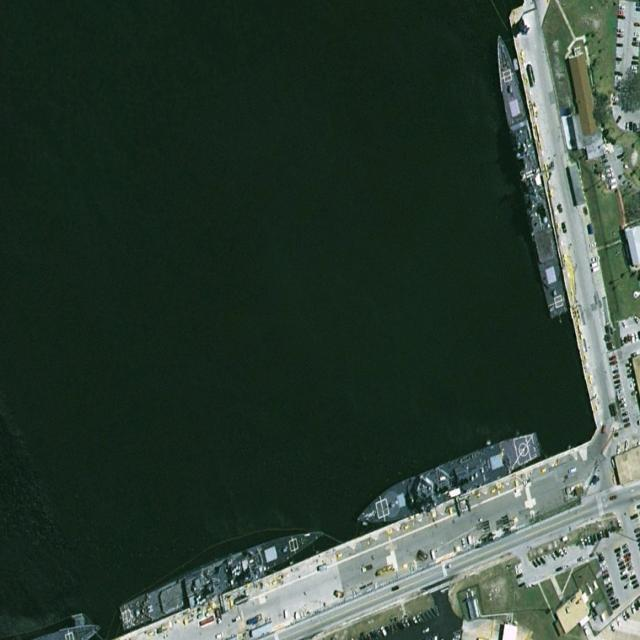Cruiser: (117, 516, 329, 635), (491, 29, 569, 321)
Destroyer: (352, 425, 544, 535)
